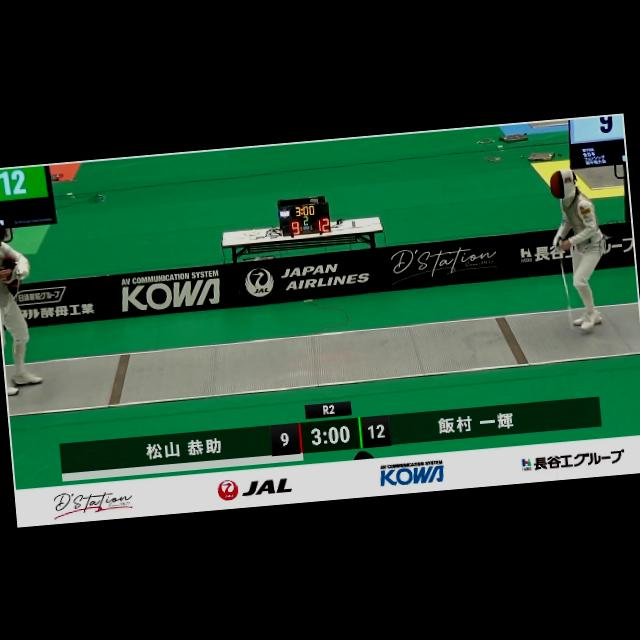blade: (554, 242, 578, 336), (5, 268, 30, 317)
